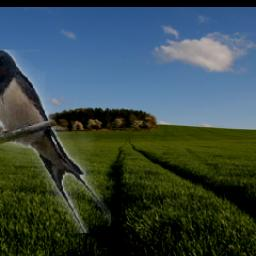Swallow: (0, 51, 112, 234)
